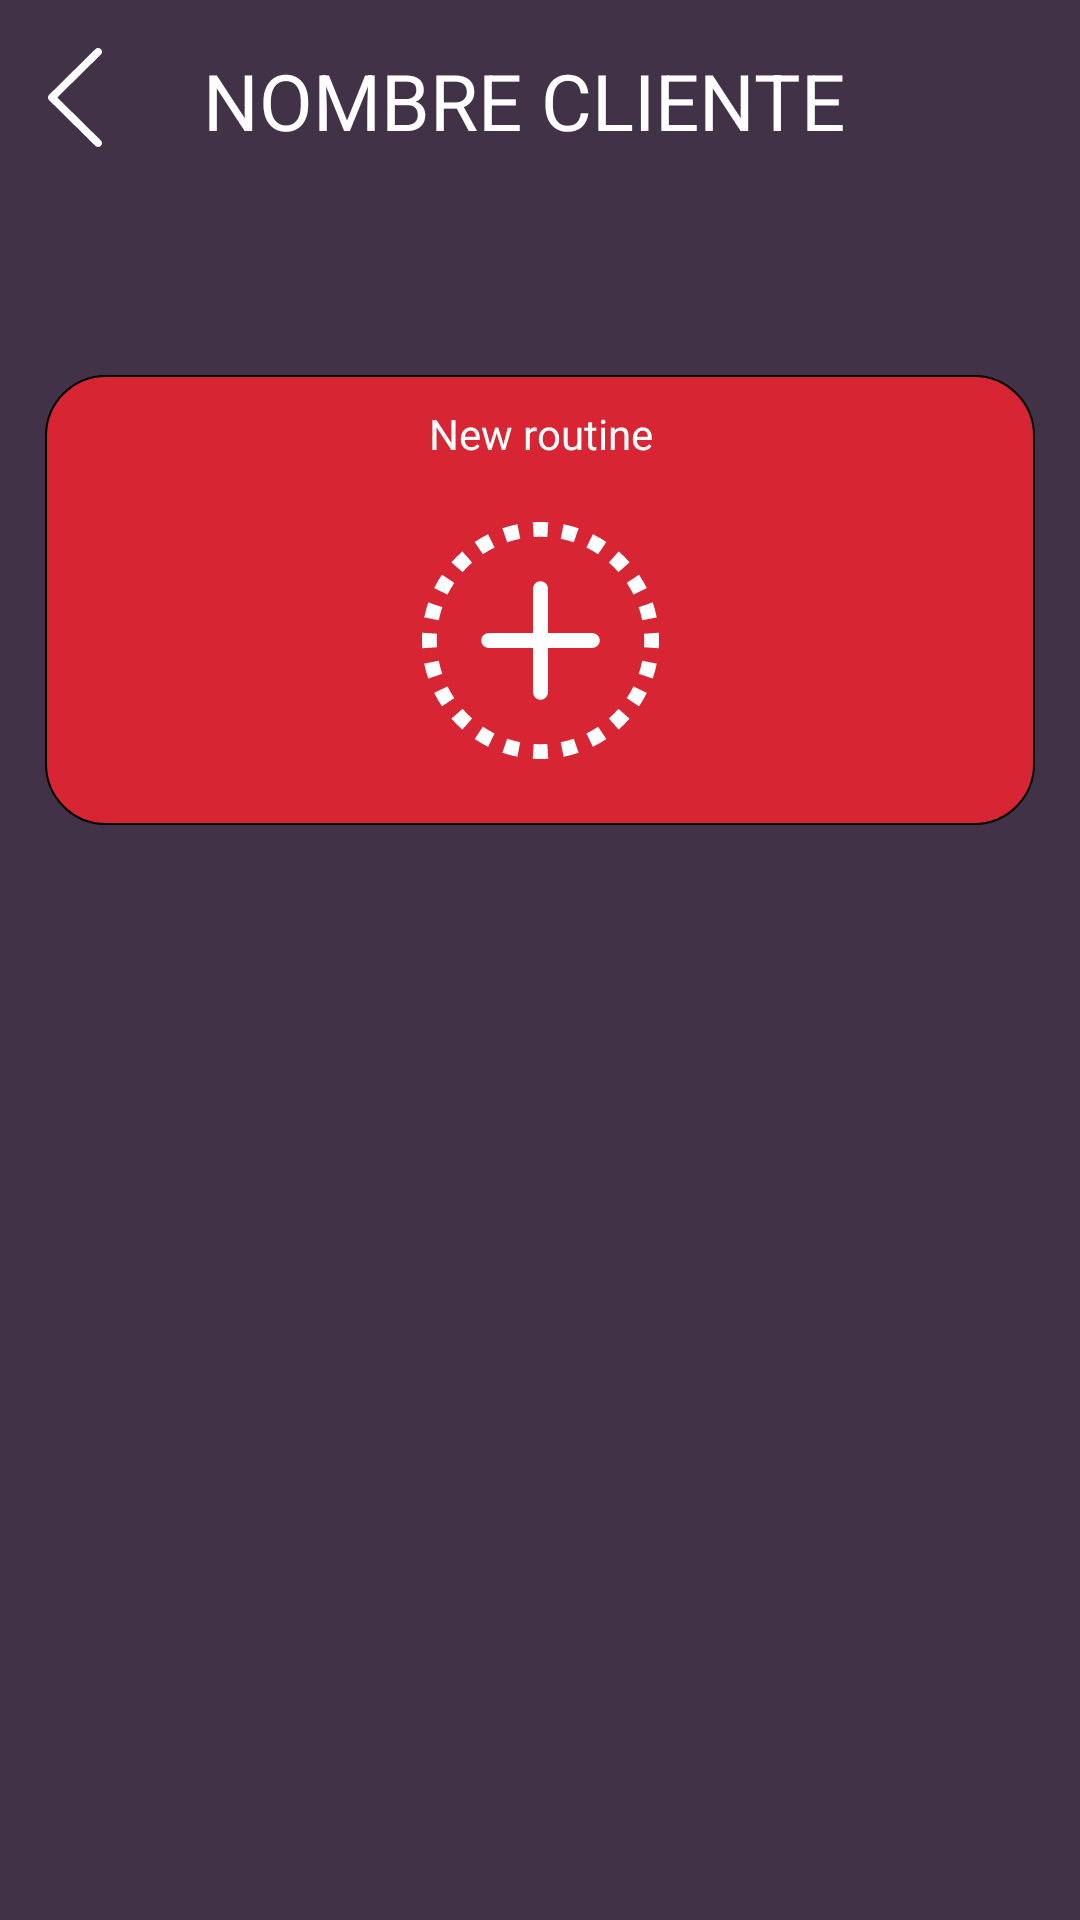

Screen size 1080px x 1920px. Icon name, then its center in pixels as (x=x, y=y):
add: (x=540, y=640)
back: (x=75, y=97)
